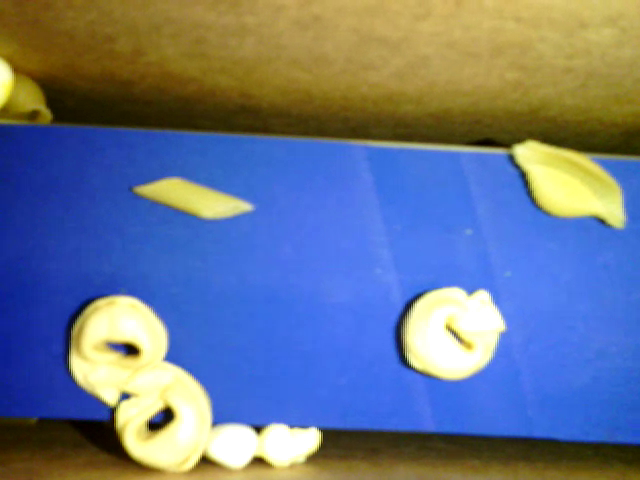penne: (130, 173, 255, 220)
shell: (510, 139, 628, 231), (1, 72, 53, 127)
tortellini: (67, 294, 170, 407), (398, 285, 507, 383), (116, 365, 210, 476)
